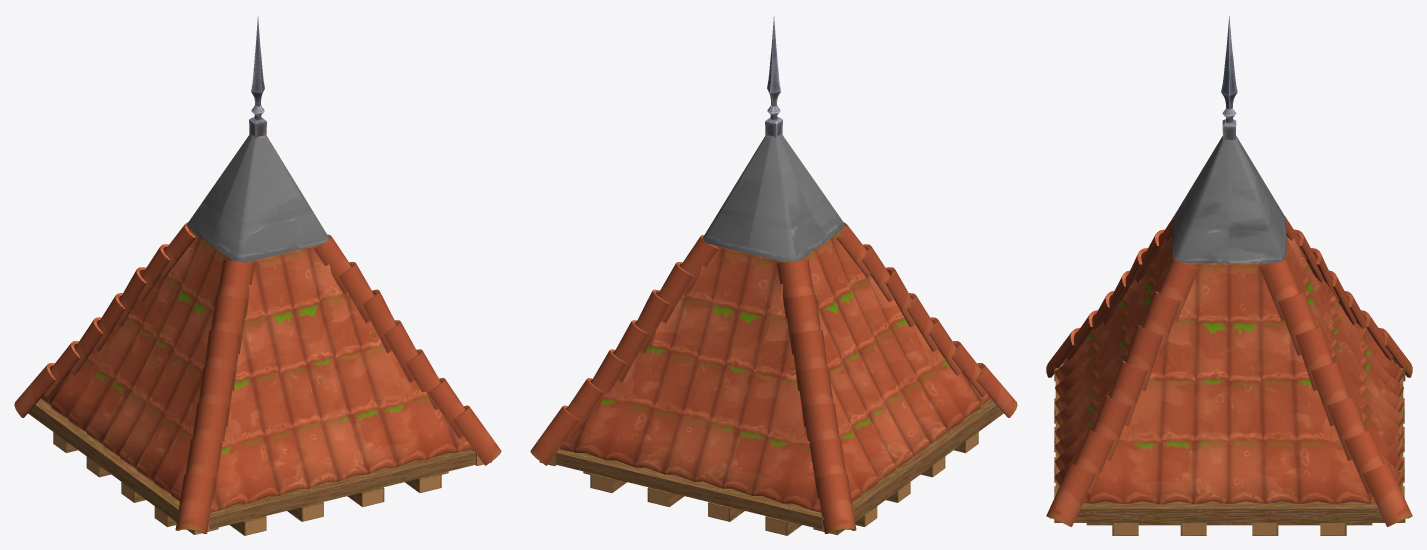
File: Roof_Tower_RoundTiles.glb
The picture shows the model from 3 angles, left to right: view 1: azimuth 30°, elevation 25°; view 2: azimuth 150°, elevation 25°; view 3: azimuth 270°, elevation 25°; orthographic projection. The views are drawn at different scales.
Parts seen in each view (by area): view 1: Roof_Tower_RoundTiles; view 2: Roof_Tower_RoundTiles; view 3: Roof_Tower_RoundTiles.
Part boxes in pixels (x1=…): Roof_Tower_RoundTiles: x1=14, y1=15, x2=501, y2=535; Roof_Tower_RoundTiles: x1=530, y1=16, x2=1017, y2=535; Roof_Tower_RoundTiles: x1=1046, y1=15, x2=1412, y2=535.
Bounding box in the file's own units: 5.65 × 7.36 × 5.43.
Materials: 4 (4 with a texture image).
